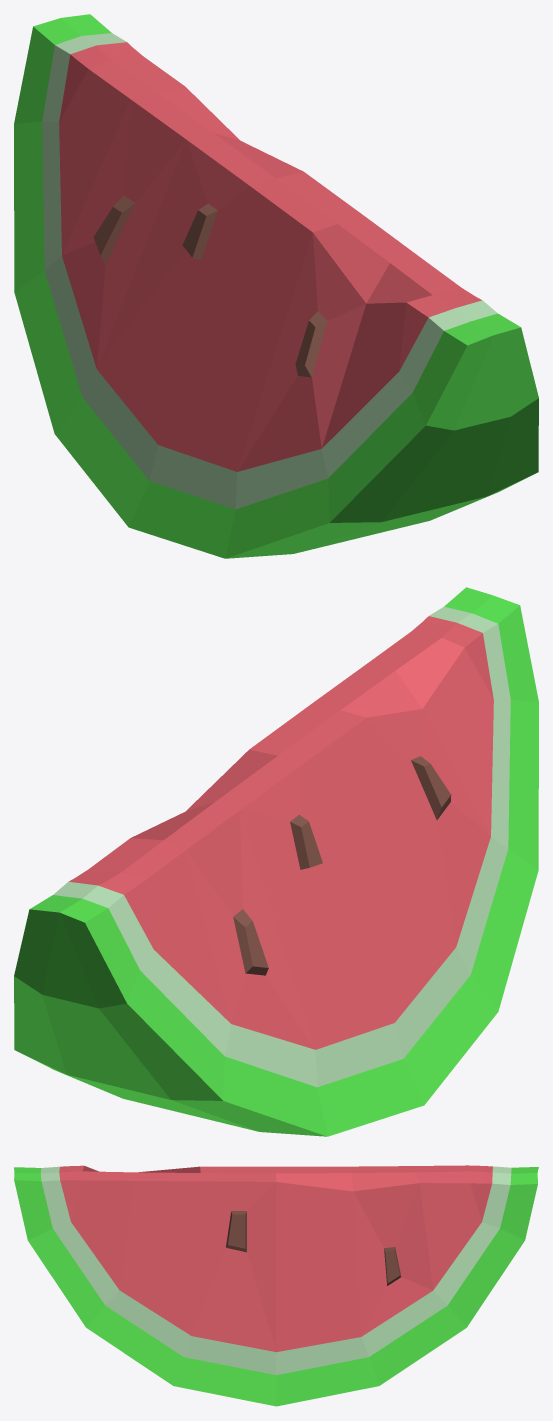
The model's file is Item.Watermelon.fbx.
3 renders of one model, top to bottom at view 1: azimuth 30°, elevation 25°; view 2: azimuth 150°, elevation 25°; view 3: azimuth 270°, elevation 25°, orthographic. The views are drawn at different scales.
Visible parts, largest first — view 1: Sphere; view 2: Sphere; view 3: Sphere.
Boxes of the visible parts, x1,y1,x2,y2 form: Sphere: (14,14,538,558); Sphere: (14,587,538,1136); Sphere: (14,1165,538,1406).
Bounding box in the file's own units: 76.54 × 81.27 × 195.
